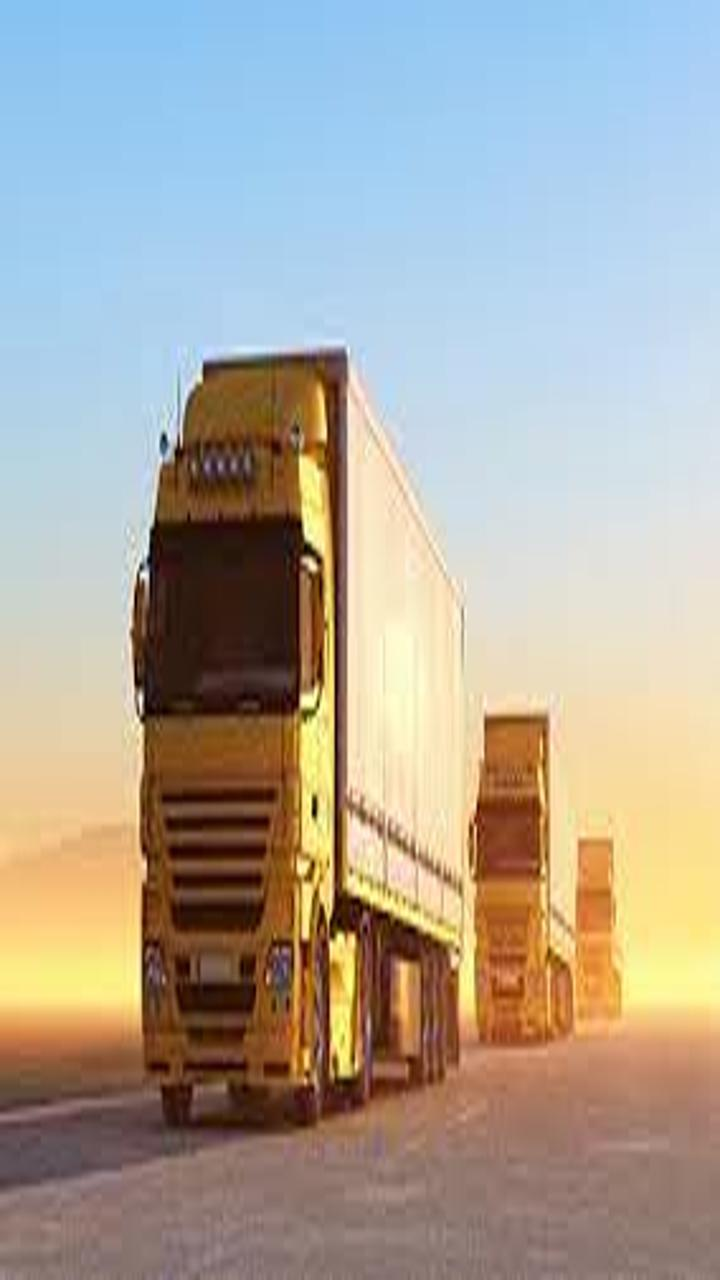vehicle: (95, 307, 486, 1111), (475, 673, 591, 1063), (579, 805, 647, 1036)
